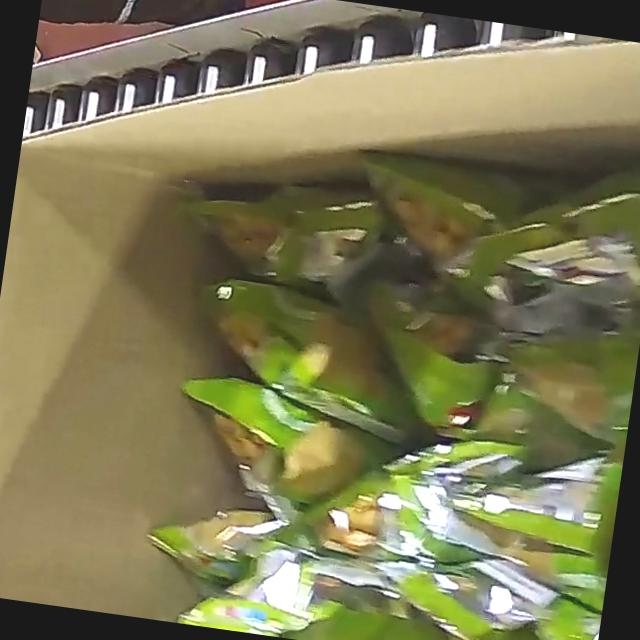yogurt: (120, 75, 640, 640)
